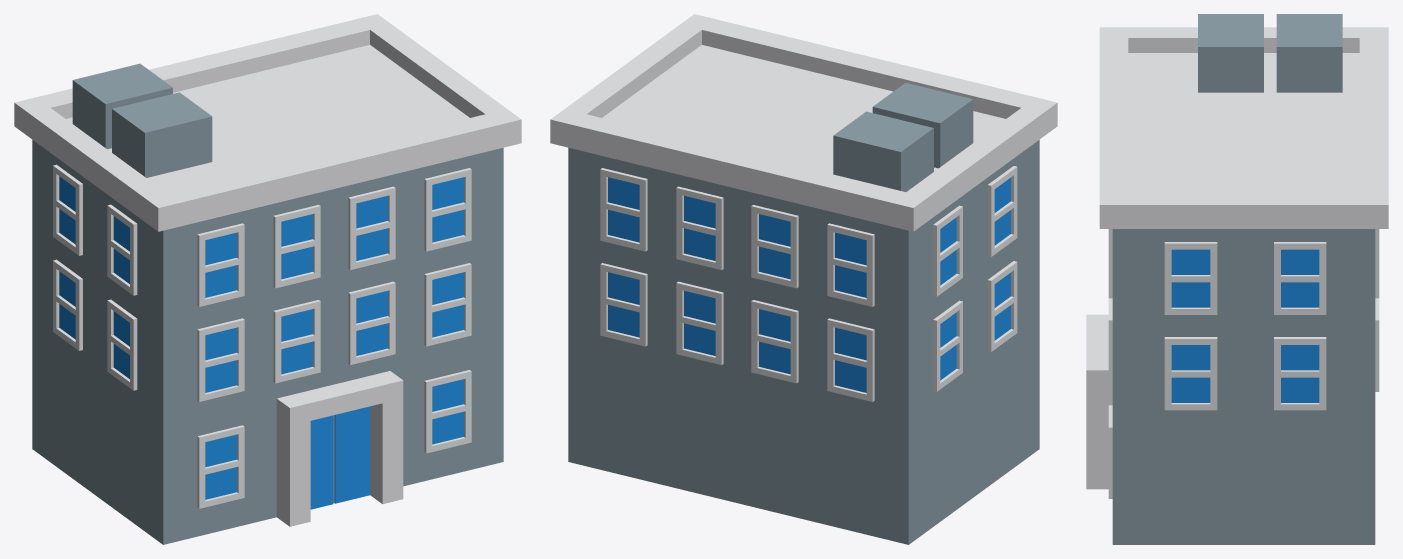
Rendered from office_building.fbx.
3 renders of one model, left to right at view 1: azimuth 30°, elevation 25°; view 2: azimuth 150°, elevation 25°; view 3: azimuth 270°, elevation 25°, orthographic.
Parts seen in each view (by area): view 1: Cube.483; view 2: Cube.483; view 3: Cube.483.
Boxes of the visible parts, x1=… form: Cube.483: x1=14, y1=14, x2=521, y2=544; Cube.483: x1=550, y1=14, x2=1057, y2=544; Cube.483: x1=1086, y1=14, x2=1388, y2=544.
Bounding box in the file's own units: 209 × 207 × 150.
Materials: 1 (1 with a texture image).
